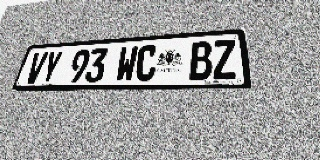3: (84, 48, 108, 82)
9: (67, 49, 91, 83)
B: (189, 41, 212, 80)
C: (134, 45, 158, 81)
V: (24, 52, 49, 84)
W: (115, 46, 138, 82)
Y: (39, 51, 64, 83)
Z: (212, 39, 237, 80)
